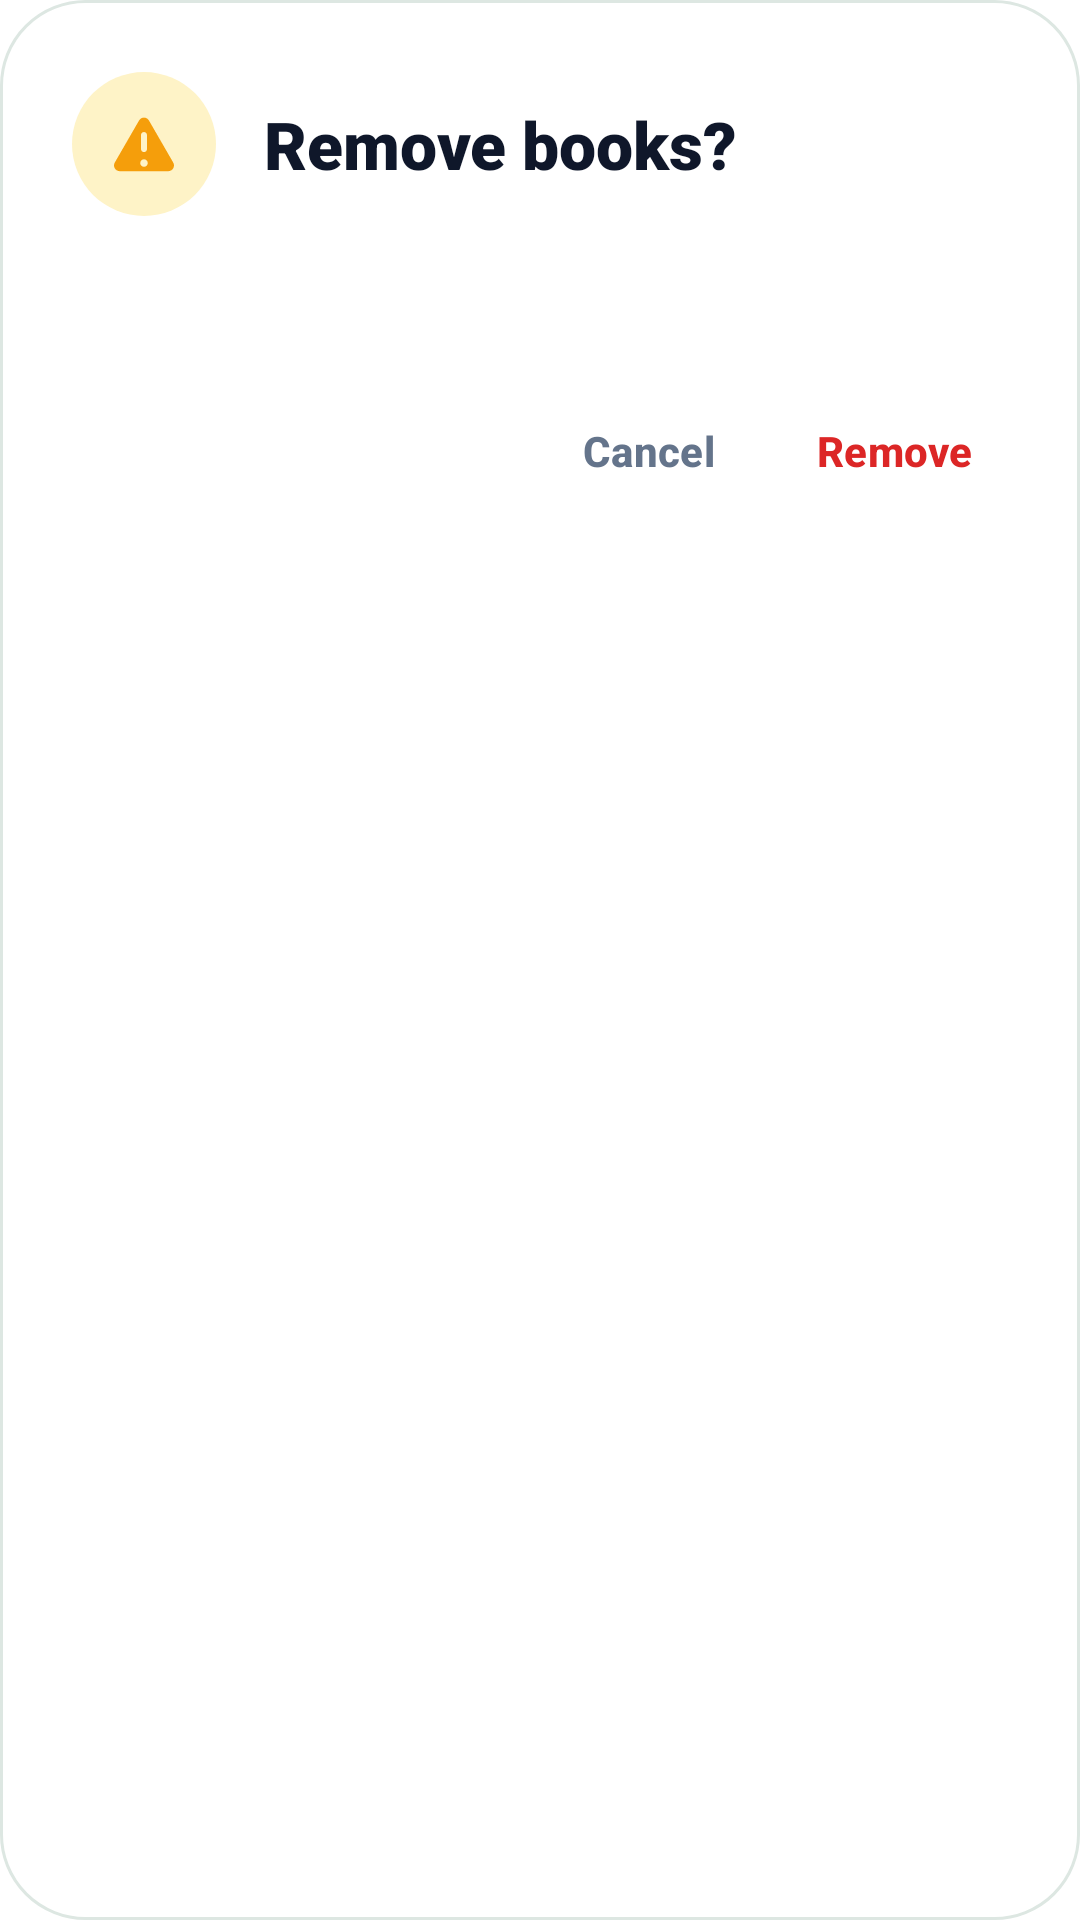

Icons on this 1080×1920 Android screen, each with the point to tap as point (x, y):
warning rounded: point (144, 144)
